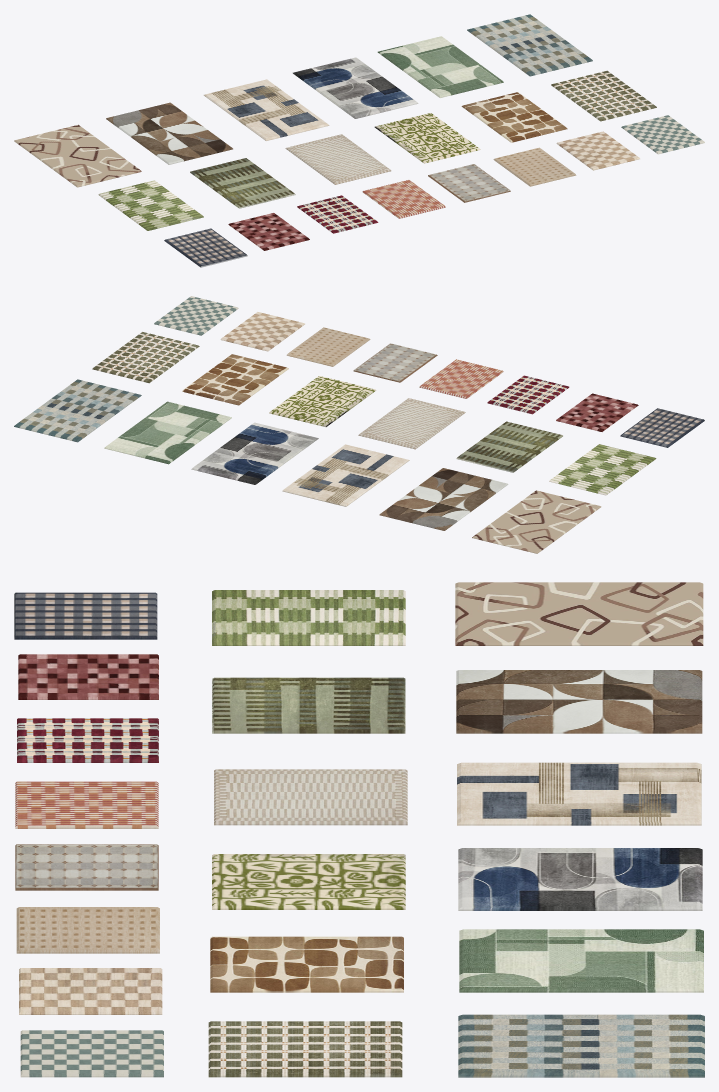
The model's file is low-poly_psx_style_patterned_rugs_pack.glb.
3 views of the same model, one above another, from view 1: azimuth 30°, elevation 25°; view 2: azimuth 150°, elevation 25°; view 3: azimuth 270°, elevation 25° (orthographic). The views are drawn at different scales.
Parts seen in each view (by area): view 1: Patterned Rugs_007, Patterned Rugs_015, Patterned Rugs_011, Patterned Rugs_016, Patterned Rugs_009, Patterned Rugs_010, Patterned Rugs_008, Patterned Rugs_004, Patterned Rugs_005, Patterned Rugs_006, Patterned Rugs_002, Patterned Rugs_019 (+8 smaller); view 2: Patterned Rugs_007, Patterned Rugs_015, Patterned Rugs_011, Patterned Rugs_016, Patterned Rugs_009, Patterned Rugs_010, Patterned Rugs_002, Patterned Rugs_006, Patterned Rugs_019, Patterned Rugs_005, Patterned Rugs_008, Patterned Rugs_004 (+8 smaller); view 3: Patterned Rugs_007, Patterned Rugs_015, Patterned Rugs_016, Patterned Rugs_011, Patterned Rugs_009, Patterned Rugs_010, Patterned Rugs_019, Patterned Rugs_008, Patterned Rugs_004, Patterned Rugs_005, Patterned Rugs_002, Patterned Rugs_006 (+8 smaller).
Part boxes in pixels (x1=…): Patterned Rugs_007: x1=14, y1=124, x2=141, y2=187; Patterned Rugs_015: x1=106, y1=102, x2=232, y2=164; Patterned Rugs_011: x1=377, y1=36, x2=503, y2=97; Patterned Rugs_016: x1=467, y1=14, x2=592, y2=76; Patterned Rugs_009: x1=203, y1=79, x2=329, y2=140; Patterned Rugs_010: x1=293, y1=57, x2=418, y2=118; Patterned Rugs_008: x1=285, y1=134, x2=391, y2=184; Patterned Rugs_004: x1=190, y1=158, x2=295, y2=208; Patterned Rugs_005: x1=461, y1=92, x2=567, y2=142; Patterned Rugs_006: x1=374, y1=113, x2=480, y2=163; Patterned Rugs_002: x1=98, y1=180, x2=203, y2=230; Patterned Rugs_019: x1=551, y1=70, x2=656, y2=121; Patterned Rugs_007: x1=472, y1=490, x2=601, y2=553; Patterned Rugs_015: x1=379, y1=468, x2=508, y2=530; Patterned Rugs_011: x1=104, y1=401, x2=231, y2=464; Patterned Rugs_016: x1=14, y1=379, x2=141, y2=442; Patterned Rugs_009: x1=282, y1=444, x2=409, y2=506; Patterned Rugs_010: x1=191, y1=422, x2=318, y2=484; Patterned Rugs_002: x1=549, y1=444, x2=656, y2=495; Patterned Rugs_006: x1=269, y1=376, x2=376, y2=426; Patterned Rugs_019: x1=92, y1=332, x2=199, y2=383; Patterned Rugs_005: x1=182, y1=354, x2=288, y2=405; Patterned Rugs_008: x1=358, y1=398, x2=465, y2=449; Patterned Rugs_004: x1=456, y1=421, x2=562, y2=472; Patterned Rugs_007: x1=455, y1=582, x2=703, y2=645; Patterned Rugs_015: x1=456, y1=670, x2=702, y2=733; Patterned Rugs_016: x1=458, y1=1014, x2=704, y2=1077; Patterned Rugs_011: x1=459, y1=929, x2=703, y2=992; Patterned Rugs_009: x1=457, y1=762, x2=701, y2=825; Patterned Rugs_010: x1=458, y1=848, x2=702, y2=910; Patterned Rugs_019: x1=208, y1=1021, x2=402, y2=1077; Patterned Rugs_008: x1=214, y1=769, x2=407, y2=825; Patterned Rugs_004: x1=212, y1=677, x2=405, y2=733; Patterned Rugs_005: x1=210, y1=936, x2=403, y2=992; Patterned Rugs_002: x1=212, y1=590, x2=405, y2=645; Patterned Rugs_006: x1=212, y1=854, x2=405, y2=909.
Bounding box in the file's own units: 9.82 × 0.0396 × 5.82.
Materials: 1 (1 with a texture image).
